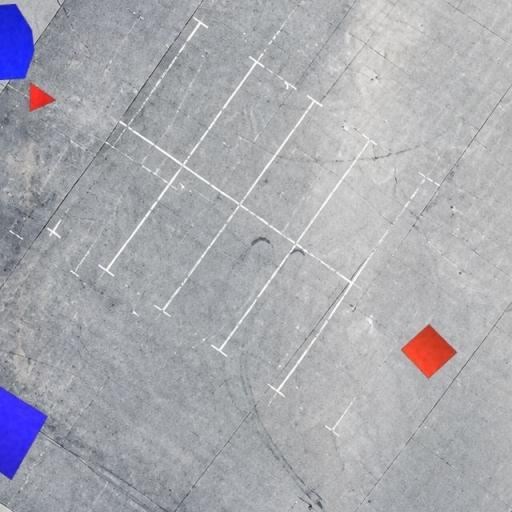BLUE_SQUARE: (0, 372, 49, 481)
RED_SQUARE: (400, 323, 458, 379)
